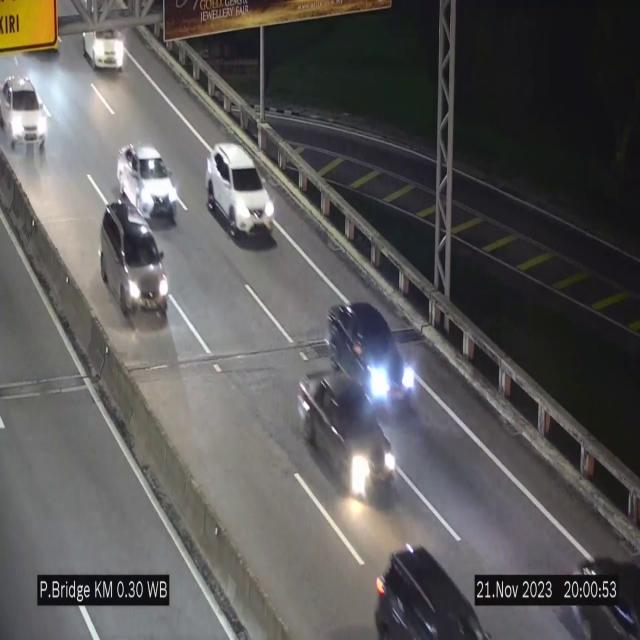Car: (298, 367, 394, 504), (330, 301, 416, 415), (101, 201, 171, 328), (206, 143, 274, 241), (116, 145, 178, 221), (0, 77, 48, 151)
